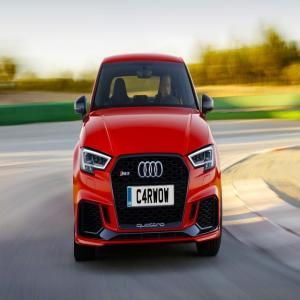Plate: (127, 187, 174, 205)
